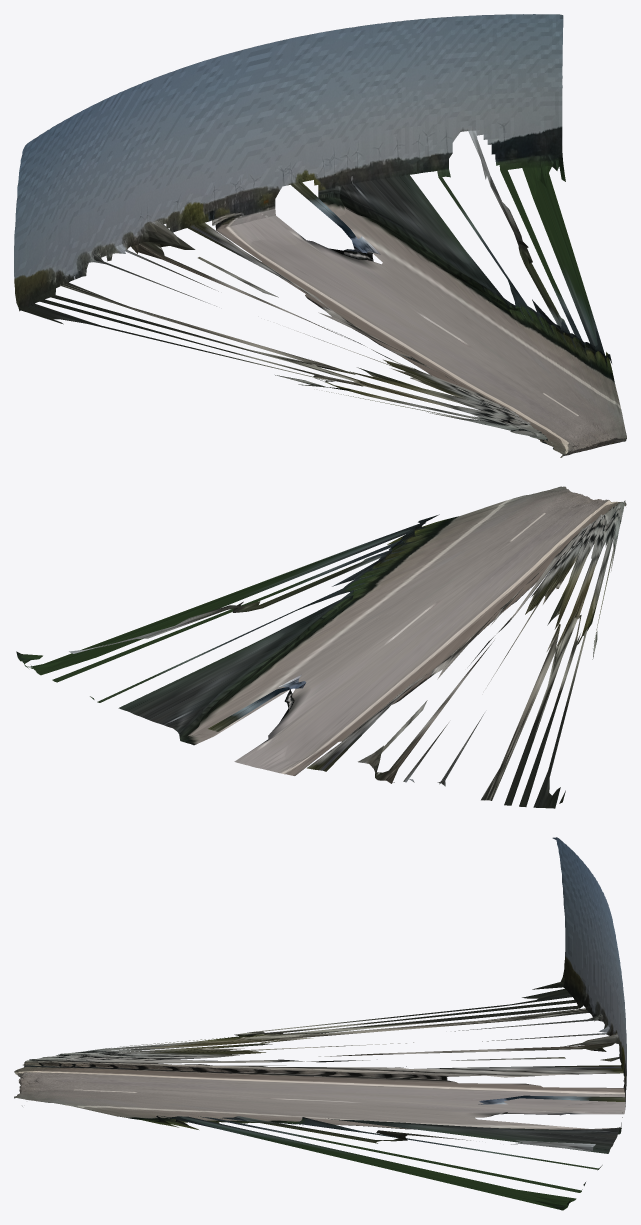
3 renders of one model, top to bottom at view 1: azimuth 30°, elevation 25°; view 2: azimuth 150°, elevation 25°; view 3: azimuth 270°, elevation 25°, orthographic. The views are drawn at different scales.
Parts seen in each view (by area): view 1: defaultobject; view 2: defaultobject; view 3: defaultobject.
Part boxes in pixels (x1,y1,x2,y2): defaultobject: [14, 14, 626, 457]; defaultobject: [16, 486, 626, 808]; defaultobject: [14, 837, 626, 1210].
Size of the model in its own units: 41.16 by 13.06 by 44.4.
Materials: 1 (1 with a texture image).
